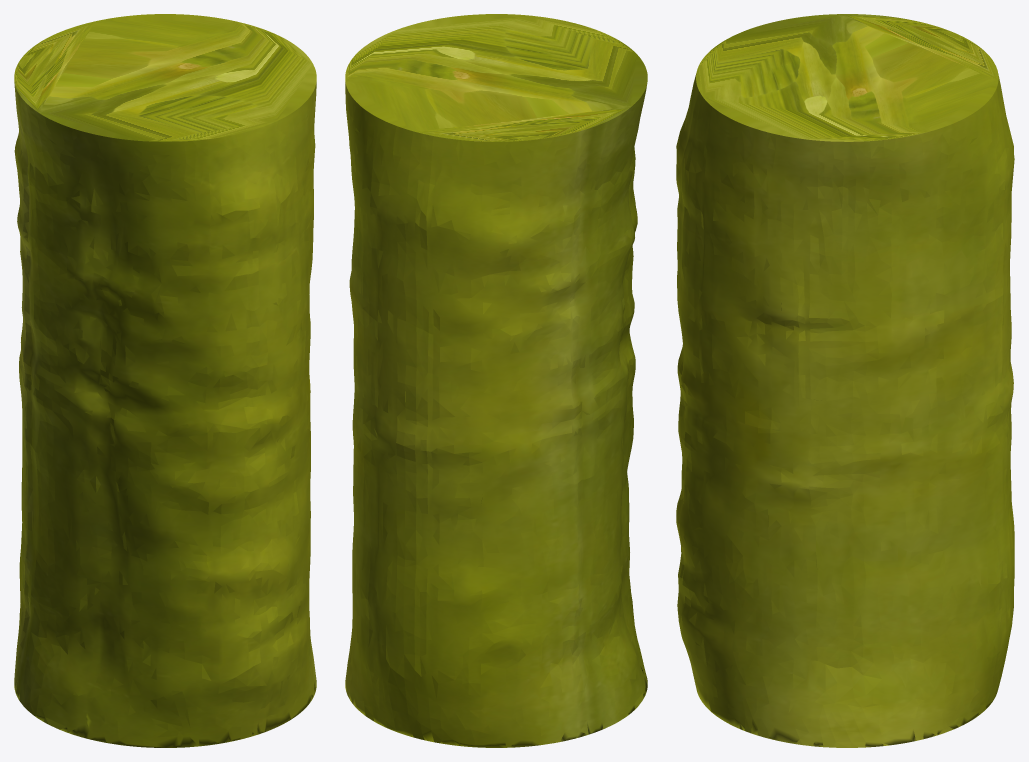
File: stem-a.glb
3 views of the same model, side by side, from view 1: azimuth 30°, elevation 25°; view 2: azimuth 150°, elevation 25°; view 3: azimuth 270°, elevation 25° (orthographic).
Parts seen in each view (by area): view 1: sunflower-new_Stem_A; view 2: sunflower-new_Stem_A; view 3: sunflower-new_Stem_A.
Boxes of the visible parts, x1,y1,x2,y2 form: sunflower-new_Stem_A: (14, 14, 316, 747); sunflower-new_Stem_A: (345, 14, 647, 747); sunflower-new_Stem_A: (676, 14, 1014, 747).
Size of the model in its own units: 0.0543 by 0.12 by 0.0607.
Materials: 1 (1 with a texture image).
